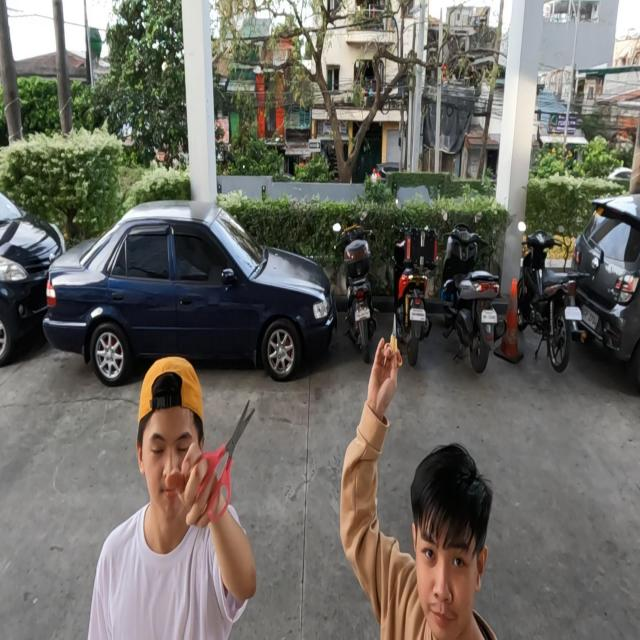scissor: (193, 399, 256, 522), (384, 314, 402, 368)
